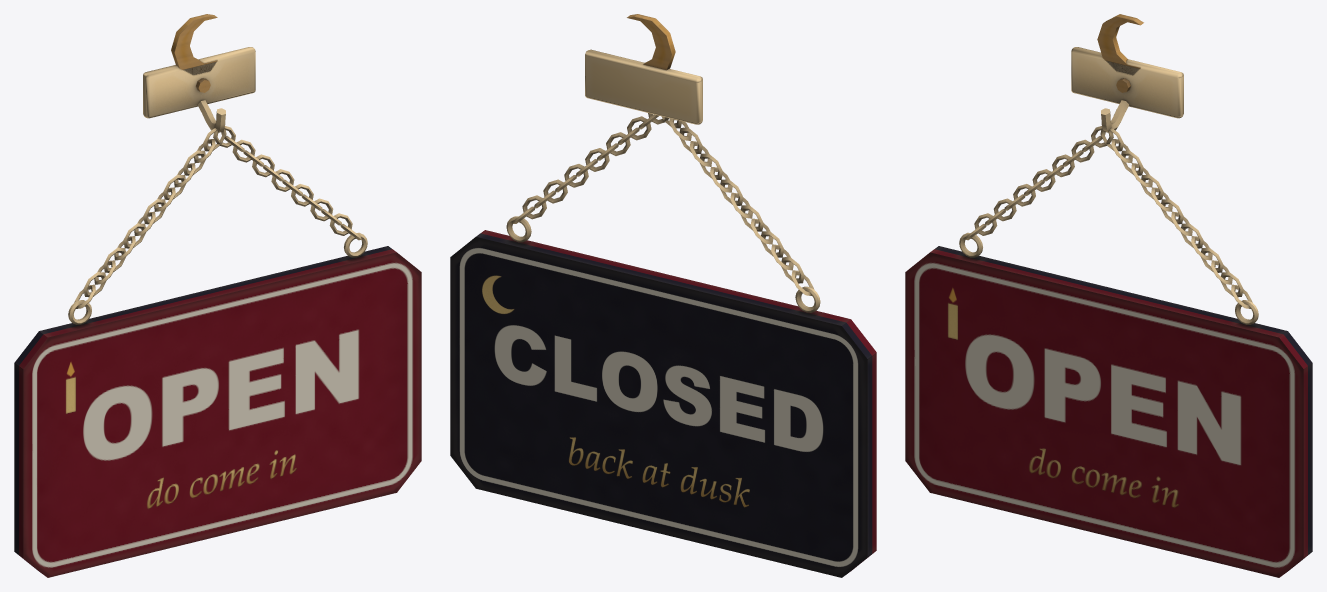
File: OpenClosedSign.fbx
The picture shows the model from 3 angles, left to right: view 1: azimuth 30°, elevation 25°; view 2: azimuth 150°, elevation 25°; view 3: azimuth 330°, elevation 25°; orthographic projection. The views are drawn at different scales.
Visible parts, largest first — view 1: OpenClosedSign; view 2: OpenClosedSign; view 3: OpenClosedSign.
Boxes of the visible parts, x1,y1,x2,y2 form: OpenClosedSign: [14, 14, 421, 577]; OpenClosedSign: [450, 14, 876, 577]; OpenClosedSign: [905, 14, 1312, 577].
Size of the model in its own units: 130 by 157 by 15.99.
